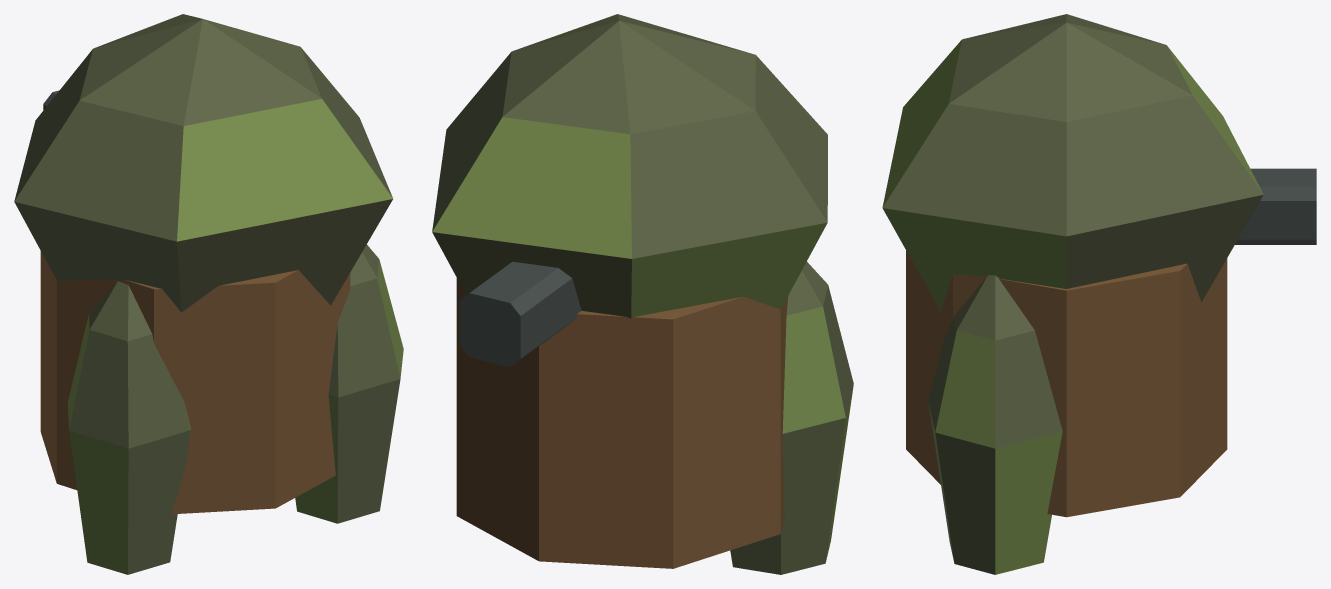
The model's file is WallPlant.gltf.
The picture shows the model from 3 angles, left to right: view 1: azimuth 30°, elevation 25°; view 2: azimuth 150°, elevation 25°; view 3: azimuth 270°, elevation 25°; orthographic projection. The views are drawn at different scales.
Parts seen in each view (by area): view 1: WallPlant; view 2: WallPlant; view 3: WallPlant.
Boxes of the visible parts, x1,y1,x2,y2 form: WallPlant: (14, 14, 403, 574); WallPlant: (432, 14, 853, 574); WallPlant: (882, 14, 1316, 574).
Size of the model in its own units: 0.1148 by 0.149 by 0.1216.
